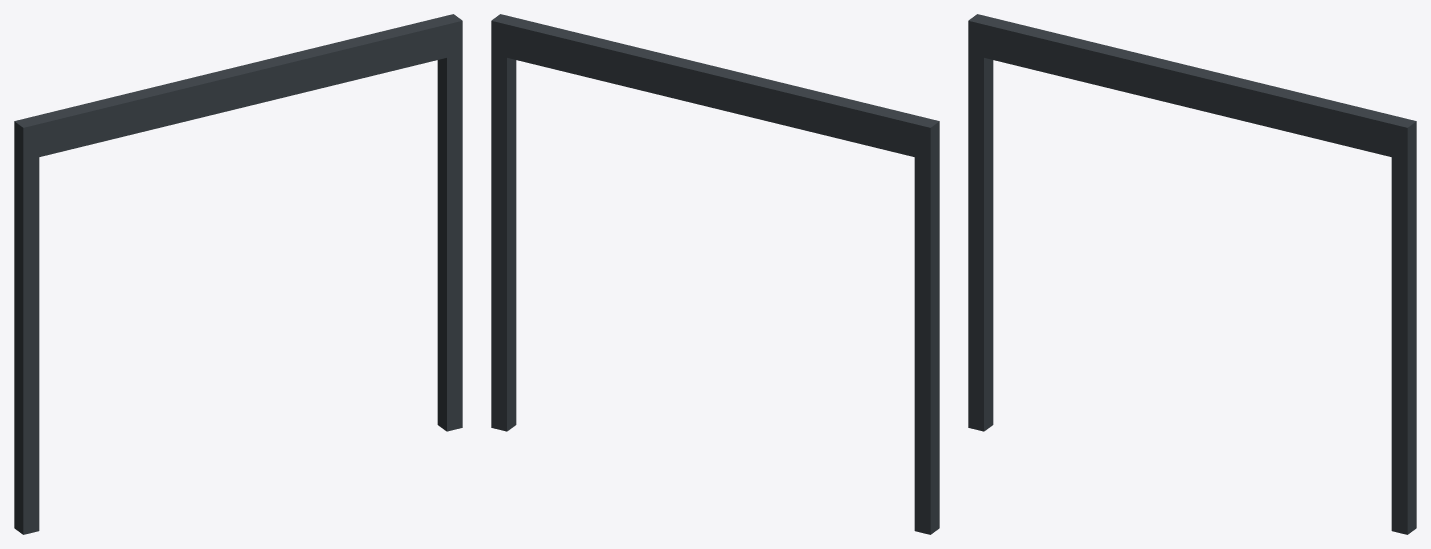
The model's file is hyr-frame_h22-w27_matdarkgrey.fbx.
3 views of the same model, side by side, from view 1: azimuth 30°, elevation 25°; view 2: azimuth 150°, elevation 25°; view 3: azimuth 330°, elevation 25° (orthographic).
Parts seen in each view (by area): view 1: hyr-frame_h22-w27_mat-d-grey; view 2: hyr-frame_h22-w27_mat-d-grey; view 3: hyr-frame_h22-w27_mat-d-grey.
Boxes of the visible parts, box(x1,y1,x2,y2) form: hyr-frame_h22-w27_mat-d-grey: box(14, 14, 462, 534); hyr-frame_h22-w27_mat-d-grey: box(491, 14, 939, 534); hyr-frame_h22-w27_mat-d-grey: box(968, 14, 1416, 534).
Size of the model in its own units: 277 by 245 by 10.
1 material, 1 textured.
